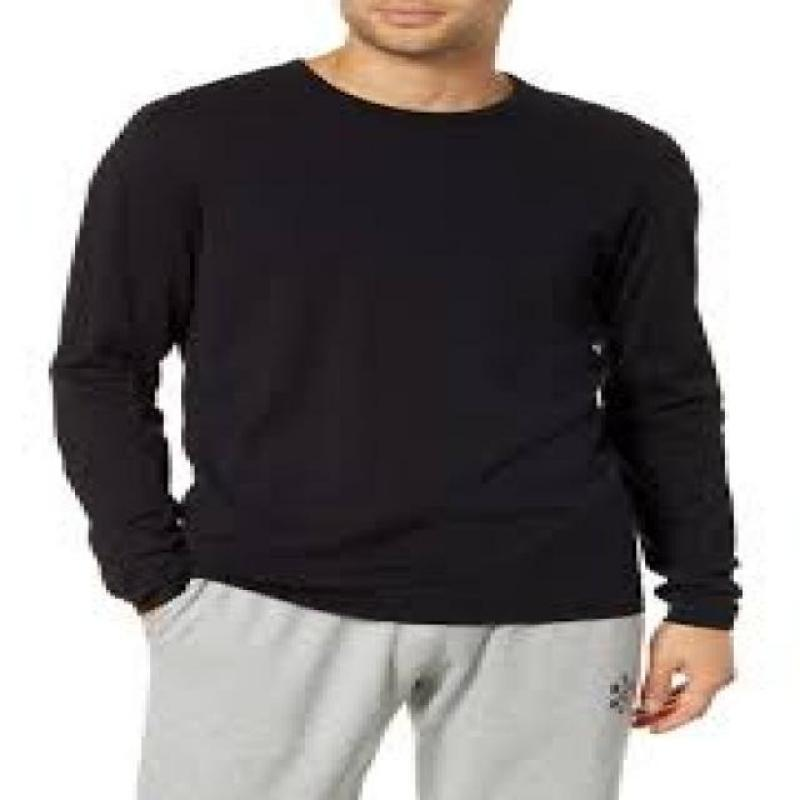long sleeve shirt: (46, 55, 745, 631)
trousers: (132, 579, 646, 800)
